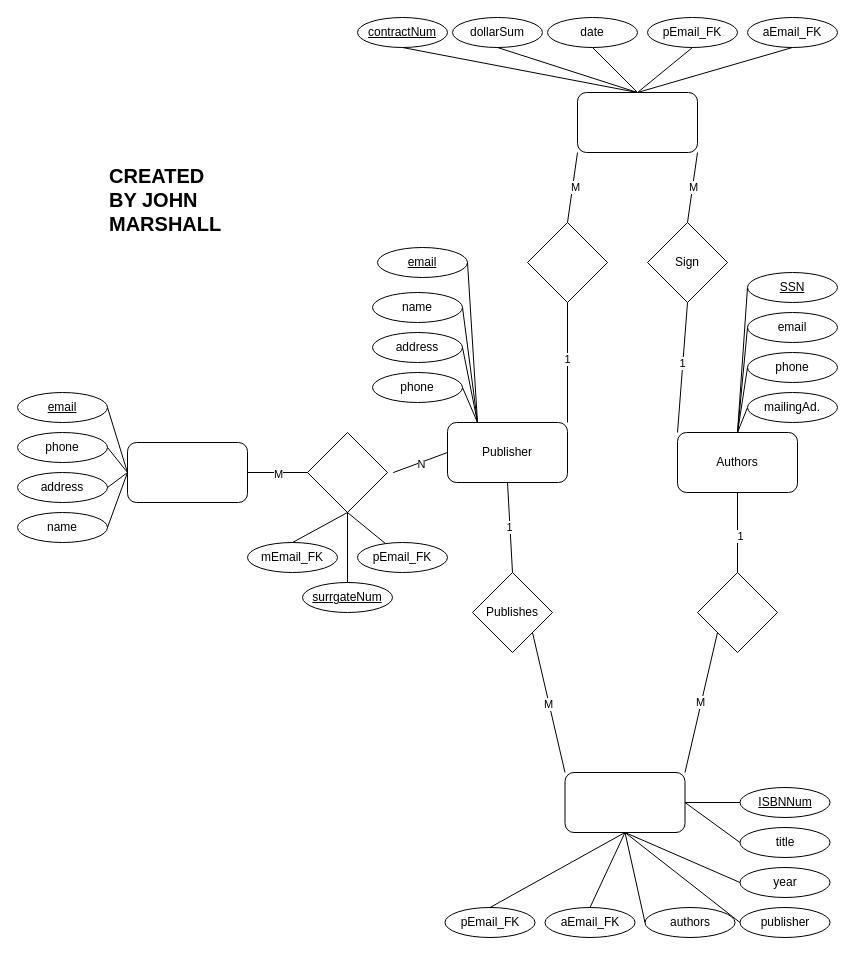
This 855x955 diagram has some shape labels left out. Here are the shapes that lost their labels. From the top down, the box of each, then its label:
(576, 92, 698, 152): Contracts
(526, 222, 608, 302): Submit
(126, 442, 248, 502): Marketing Company
(306, 432, 388, 512): works with
(696, 572, 778, 652): Writes
(564, 772, 685, 832): Books
